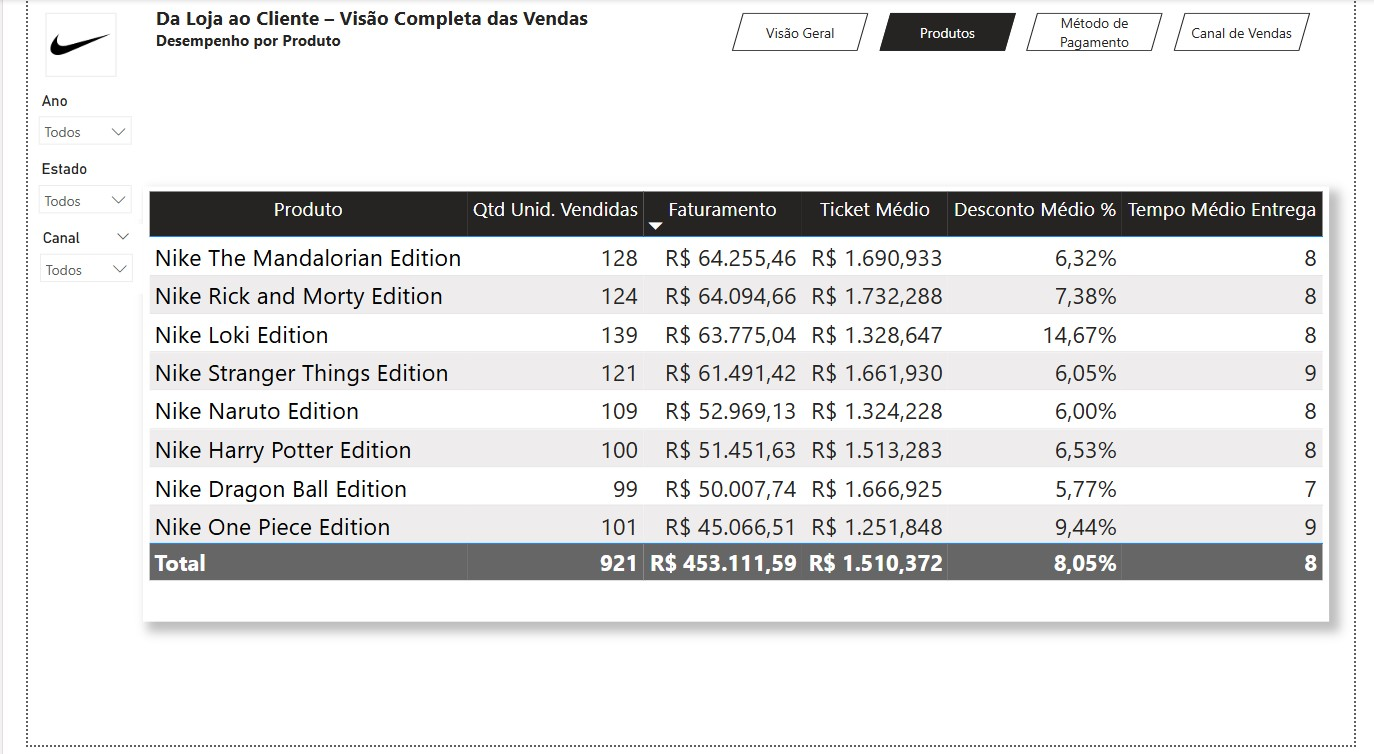

This screenshot's page, from the dashboard's own definition file:
{"tool":"powerbi","page":{"name":"Produtos","canvas":[1280,720],"ordinal":1},"visuals":[{"type":"slicer","fields":{"Values":["dCalendario.Data.Variation.Hierarquia de datas.Ano"]},"box":[0,84.5,109.8,60.3],"z":0,"group":"g1"},{"type":"textbox","box":[118.2,0,483.8,74.8],"z":0},{"type":"image","box":[17.1,12.9,68.6,61.4],"z":1000},{"type":"slicer","fields":{"Values":["dEstado.ESTADO"]},"box":[0,150.3,109.8,61.5],"z":1000,"group":"g1"},{"type":"slicer","fields":{"Values":["dCanal.CANAL"]},"box":[1.2,217.2,109.8,67.6],"z":2000,"group":"g1"},{"type":"tableEx","fields":{"Values":["dProduto.NOME PRODUTO","Medidas.Qtd Unidades Vendidas","Medidas.Faturamento","Medidas.Ticket Médio","Medidas.Desconto Médio %","Medidas.Tempo Médio Entrega em Dias"]},"box":[111,181,1144.9,419.8],"z":2000},{"type":"group","id":"g1","title":"Grupo 1","box":[0,84.5,111,200.3],"z":3000},{"type":"pageNavigator","box":[679.2,13.3,558.6,37.4],"z":4000}]}

Visuals, with their boxes in screenshot pixels (x1, y1, x2, y2), scaled from the page's 1280x720 canvas onto the 1374x754 screenshot:
slicer - dCalendario.Data.Variation.Hierarquia de datas.Ano: bbox=[0, 88, 118, 152]
textbox: bbox=[127, 0, 646, 78]
image: bbox=[18, 14, 92, 78]
slicer - dEstado.ESTADO: bbox=[0, 157, 118, 222]
slicer - dCanal.CANAL: bbox=[1, 227, 119, 298]
tableEx - dProduto.NOME PRODUTO x Medidas.Qtd Unidades Vendidas: bbox=[119, 190, 1348, 629]
"Grupo 1" group: bbox=[0, 88, 119, 298]
pageNavigator: bbox=[729, 14, 1329, 53]
